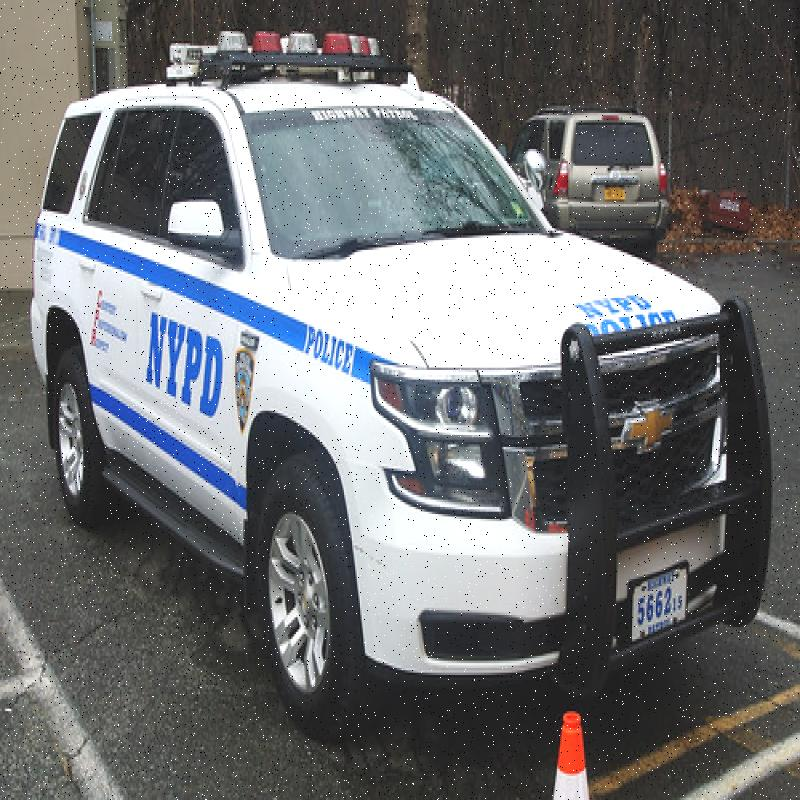AmbulanceSiren: (206, 12, 386, 72)
